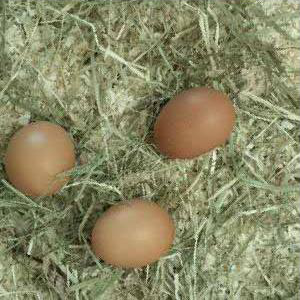egg: (154, 88, 235, 159), (92, 199, 174, 266), (6, 123, 76, 193)
